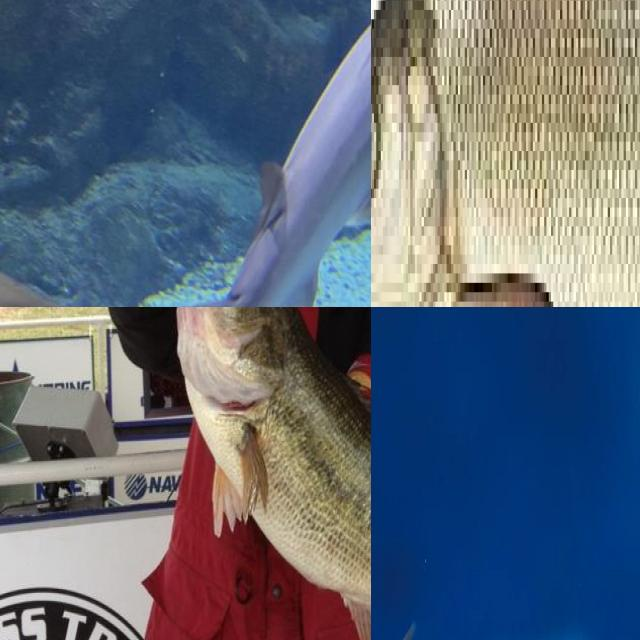fish: (0, 0, 371, 307), (371, 0, 640, 307), (161, 307, 371, 640)
